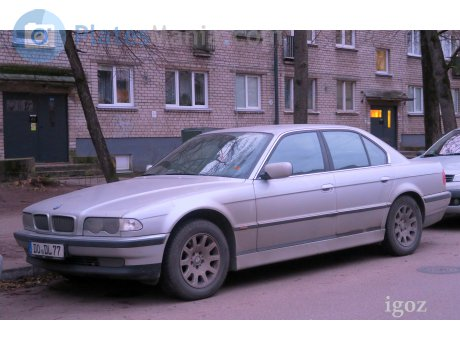License Plates: (30, 242, 64, 254)
